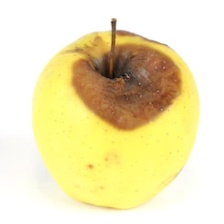apple: (57, 23, 198, 224)
